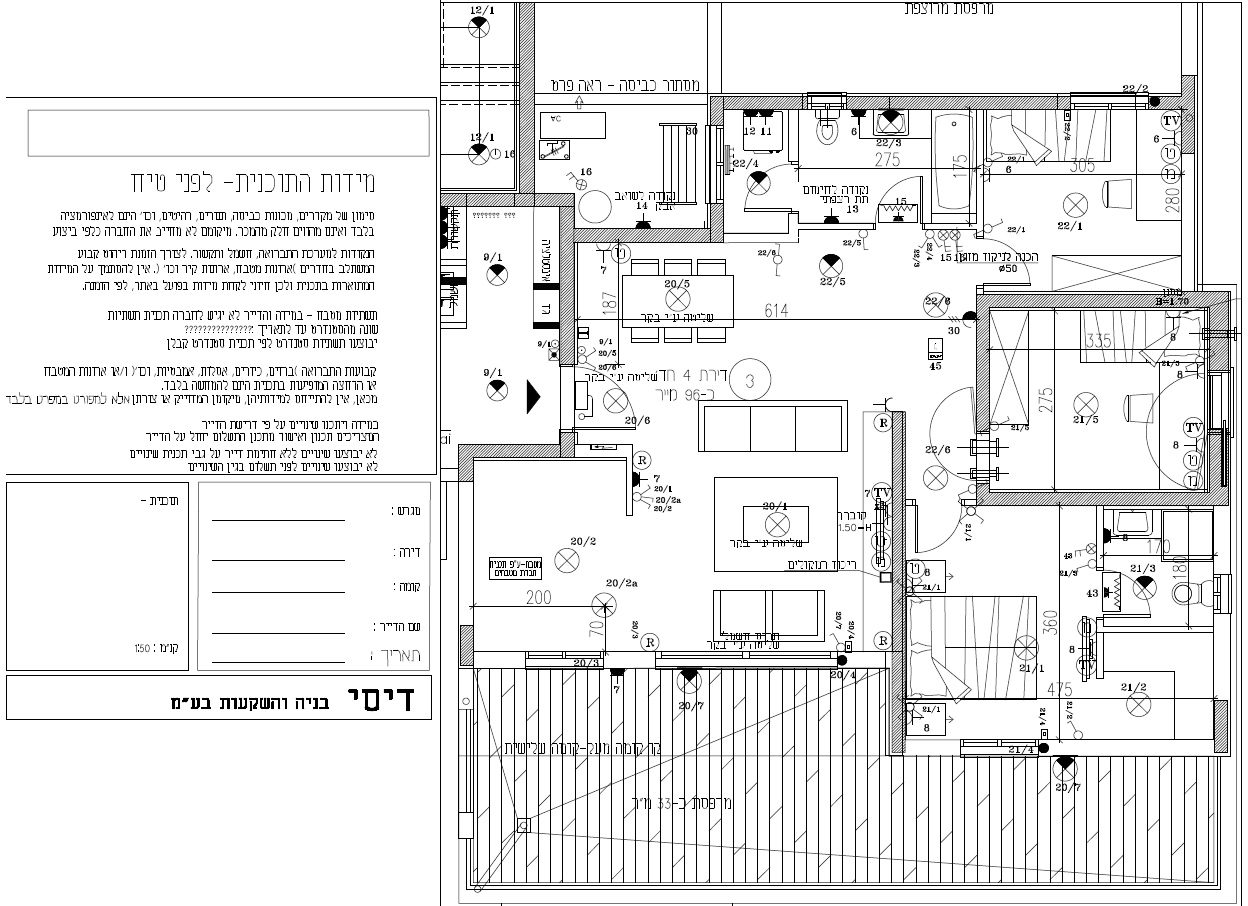door: (579, 356, 645, 441), (908, 505, 974, 557), (864, 174, 930, 226), (738, 155, 790, 217), (992, 232, 1037, 289)
wall: (976, 291, 1227, 307), (976, 491, 1227, 507), (519, 2, 535, 196)
window: (653, 651, 837, 671), (1207, 369, 1234, 433), (704, 125, 723, 203), (524, 651, 602, 670), (1071, 93, 1149, 111), (1213, 574, 1232, 615), (808, 92, 845, 110)
